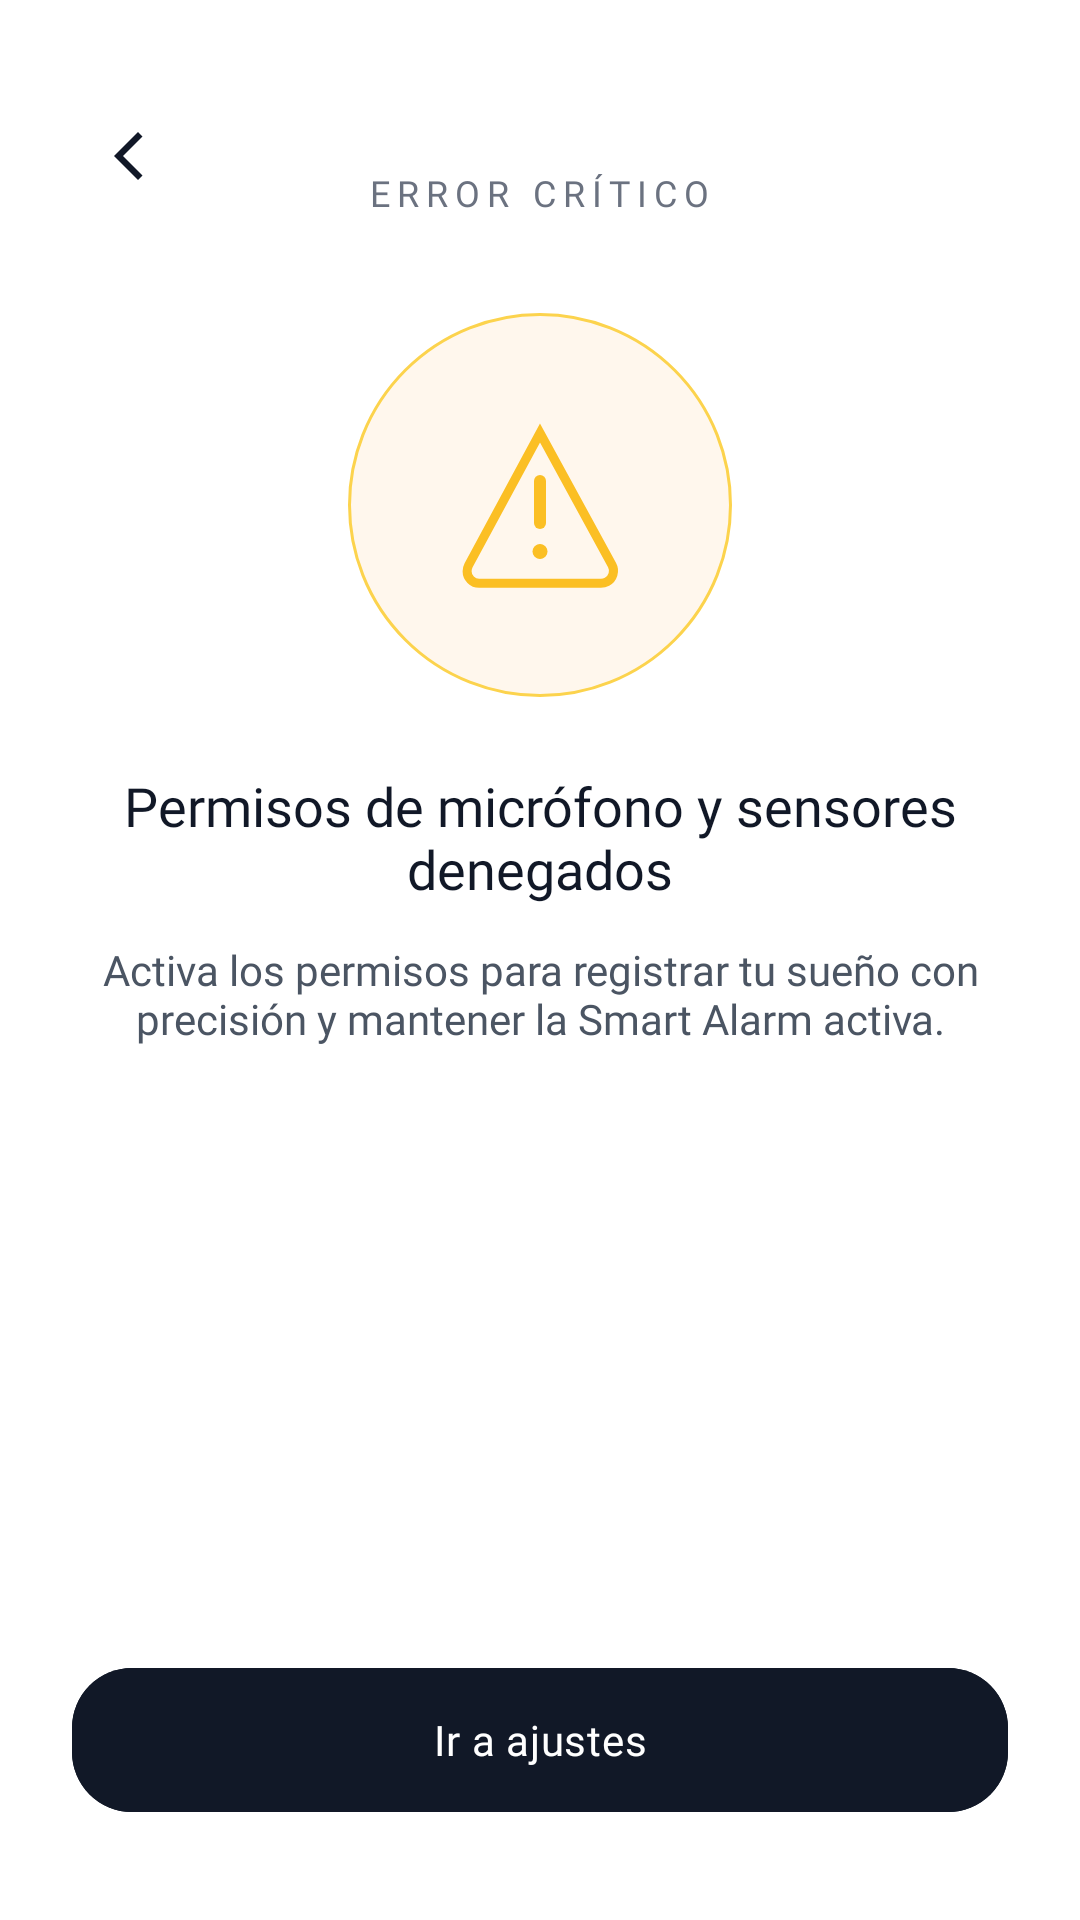

Screen size 1080px x 1920px. Icon name, then its center in pixels as point (x, y):
Error crítico: point (540, 506)
Volver: point (128, 156)
